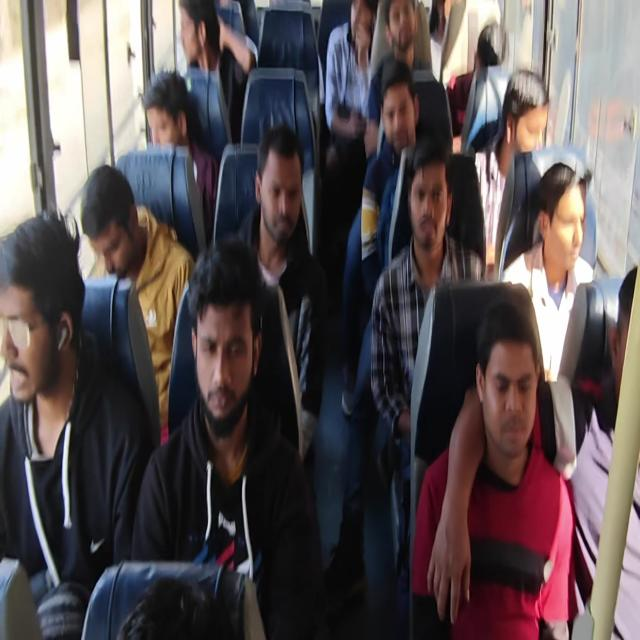person: (0, 222, 70, 404), (95, 573, 278, 640), (199, 271, 248, 424), (468, 339, 531, 458), (140, 64, 198, 164), (534, 168, 592, 264), (82, 162, 131, 274), (408, 153, 454, 258), (260, 139, 302, 246), (501, 78, 552, 160), (610, 277, 640, 415), (172, 0, 220, 82), (379, 79, 418, 150), (387, 0, 423, 62), (471, 22, 508, 80), (340, 0, 376, 54), (427, 0, 463, 35)
